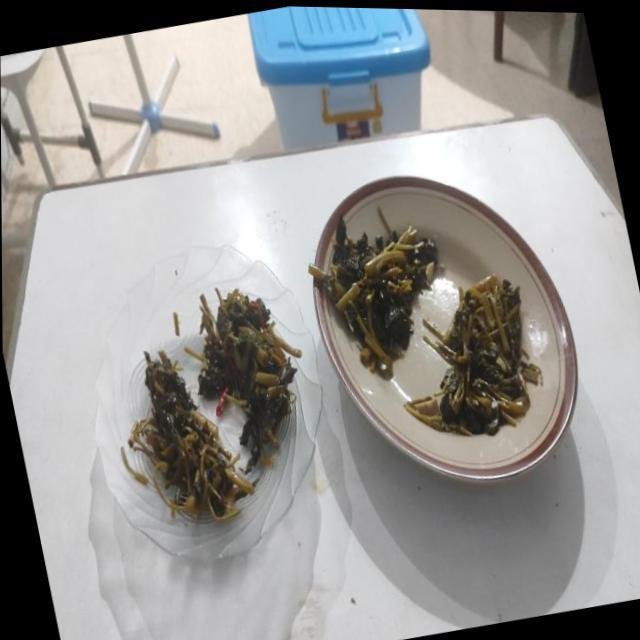tumis_kangkung: (128, 350, 254, 520), (412, 274, 544, 436), (198, 288, 301, 473), (323, 216, 438, 364)
